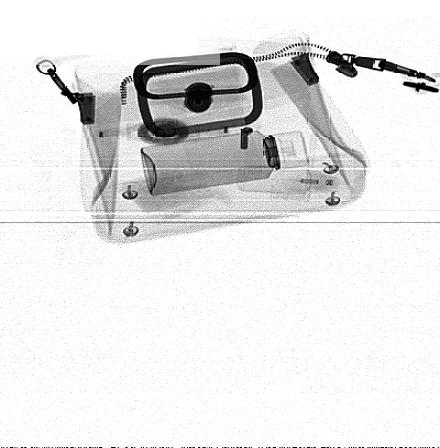Sprayer: (141, 130, 310, 196)
